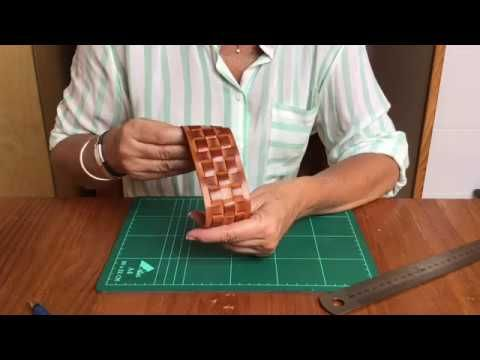cuero: (179, 124, 253, 227)
